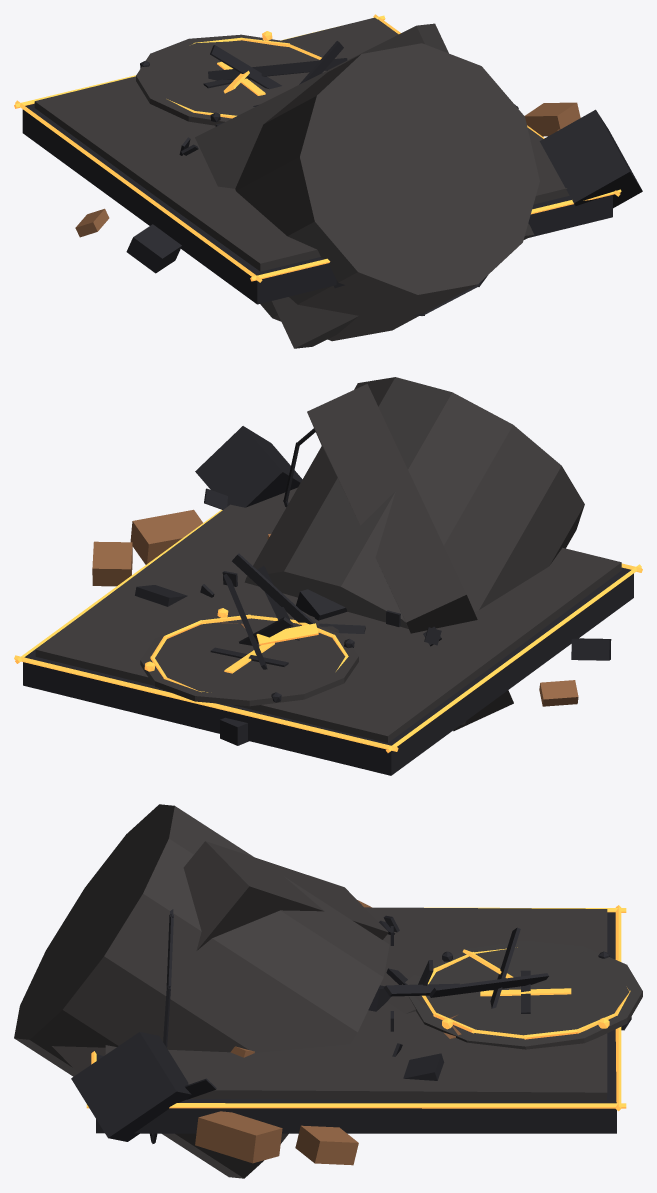
File: Wreck_SentryDroneHangar.fbx
3 views of the same model, one above another, from view 1: azimuth 30°, elevation 25°; view 2: azimuth 150°, elevation 25°; view 3: azimuth 270°, elevation 25° (orthographic). The views are drawn at different scales.
Visible parts, largest first — view 1: Wreck_SentryDroneHangar; view 2: Wreck_SentryDroneHangar; view 3: Wreck_SentryDroneHangar.
Part boxes in pixels (x1,y1,x2,y2): Wreck_SentryDroneHangar: (14, 14, 642, 348); Wreck_SentryDroneHangar: (14, 377, 642, 775); Wreck_SentryDroneHangar: (14, 804, 642, 1178).
Size of the model in its own units: 1.92 by 1.16 by 1.93.
